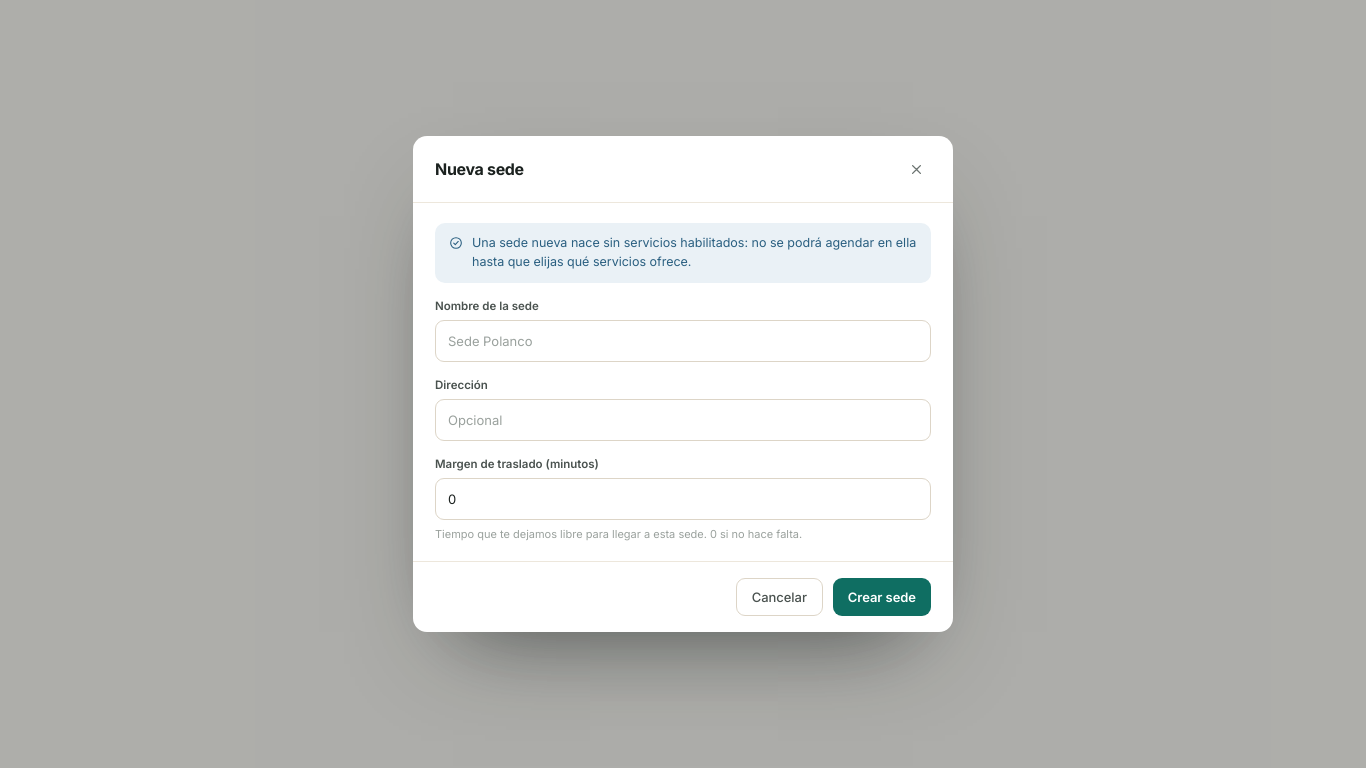
Scenario: LocationFormModal in create mode › blocks an empty name
The image size is (1366, 768).
Click the button "Crear sede" at (882, 597), box [833,578,931,616]
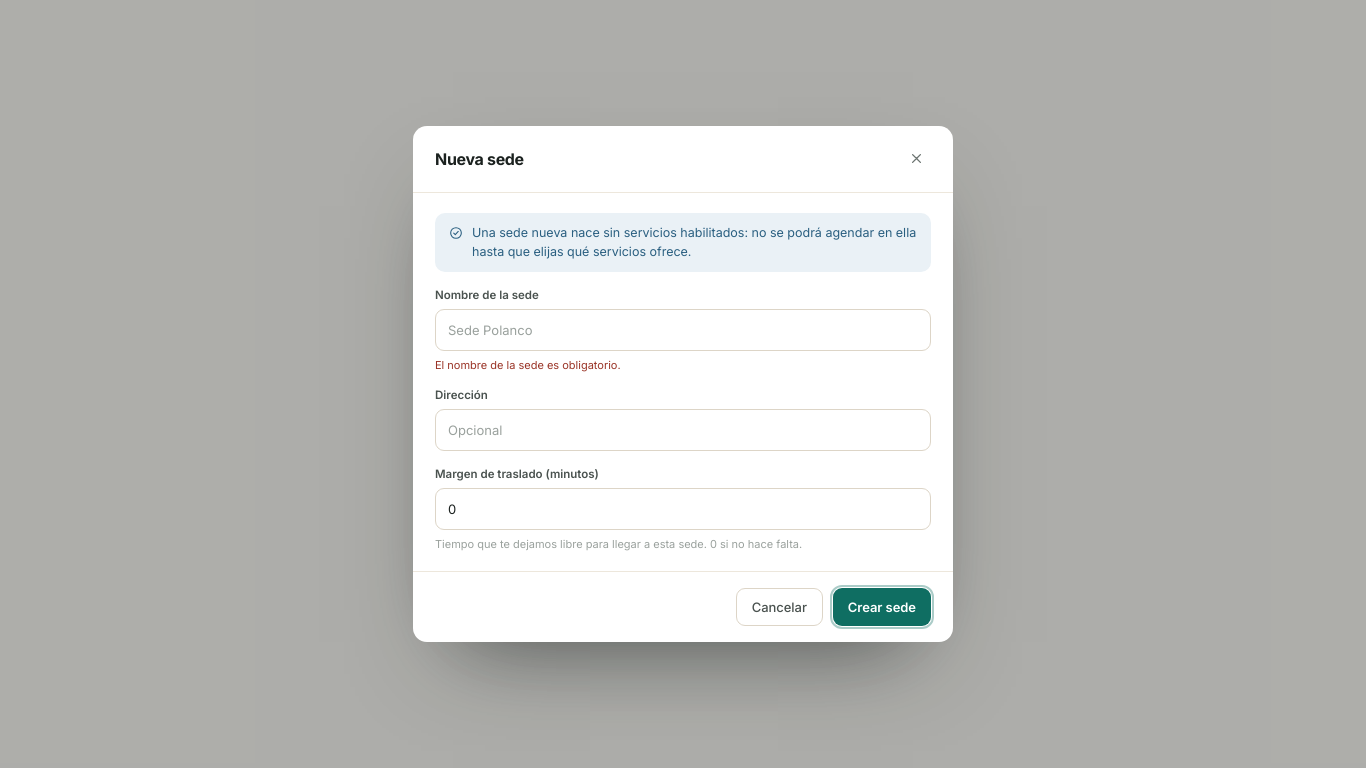
Expected: the text "El nombre de la sede es obligatorio." is shown, [435,358,621,372]
